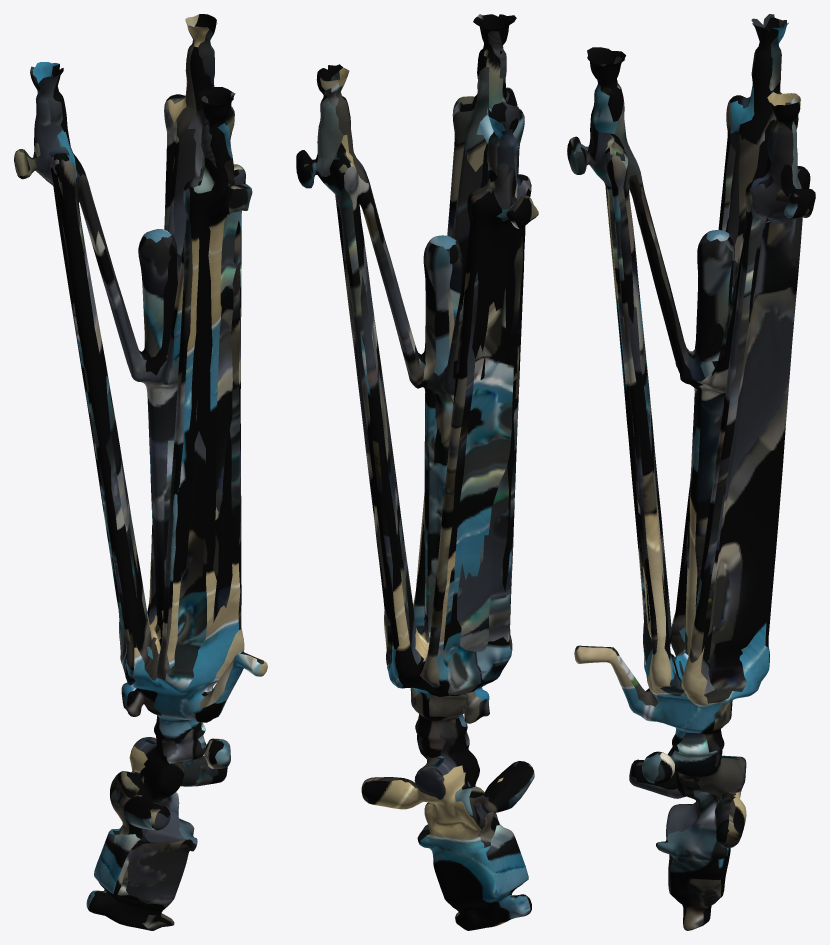
3 views of the same model, side by side, from view 1: azimuth 30°, elevation 25°; view 2: azimuth 150°, elevation 25°; view 3: azimuth 270°, elevation 25° (orthographic). The views are drawn at different scales.
Size of the model in its own units: 0.29 by 1.07 by 0.2746.
